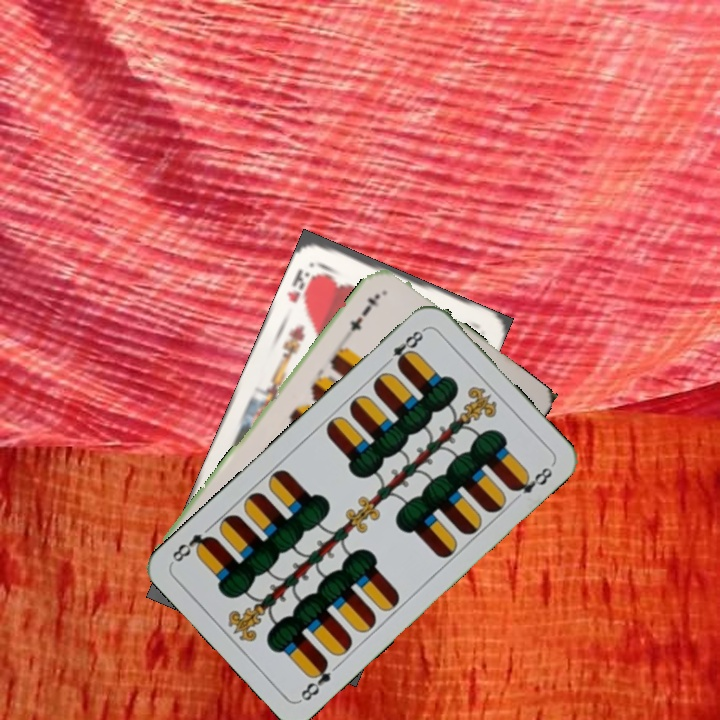E7: (345, 289, 383, 335)
E8: (380, 324, 428, 370), (296, 655, 334, 704)
HK: (283, 264, 321, 313)
